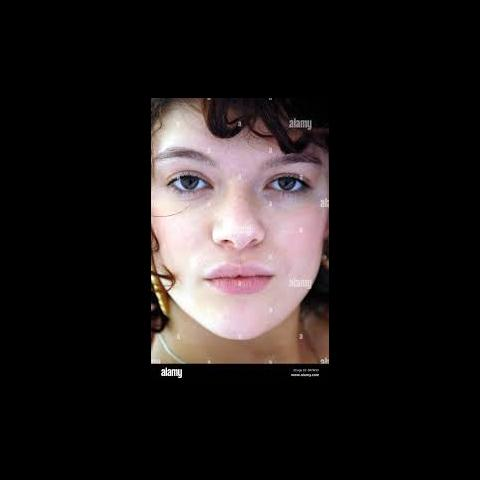opened: (158, 142, 320, 213)
